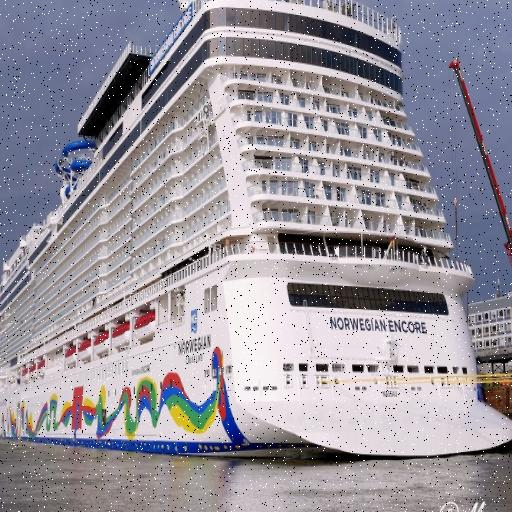cruises: (1, 1, 512, 470)
